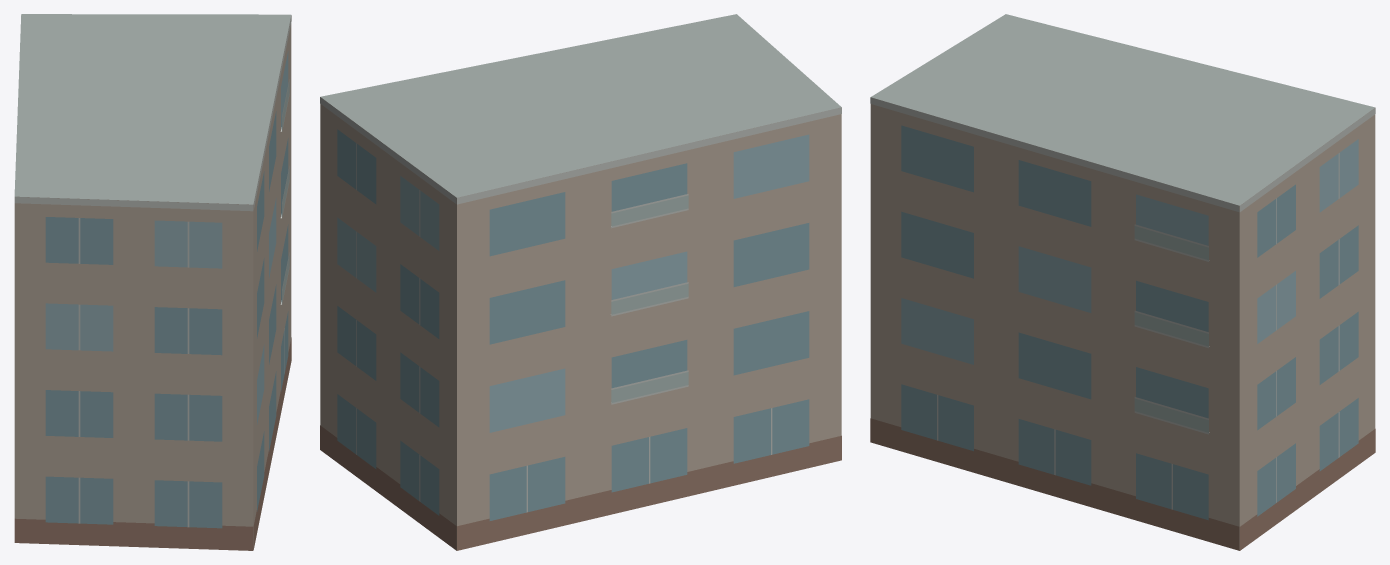
File: survey-upis-33019242.glb
3 renders of one model, left to right at view 1: azimuth 30°, elevation 25°; view 2: azimuth 150°, elevation 25°; view 3: azimuth 270°, elevation 25°, orthographic. The views are drawn at different scales.
Parts seen in each view (by area): view 1: survey-upis-33019242.tmp; view 2: survey-upis-33019242.tmp; view 3: survey-upis-33019242.tmp.
Boxes of the visible parts, x1,y1,x2,y2 form: survey-upis-33019242.tmp: [14, 14, 291, 550]; survey-upis-33019242.tmp: [320, 14, 841, 550]; survey-upis-33019242.tmp: [870, 14, 1375, 550].
Size of the model in its own units: 15.14 by 12.7 by 16.85.
